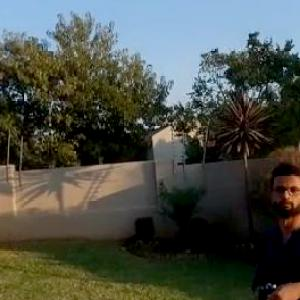follow: (249, 153, 299, 299)
